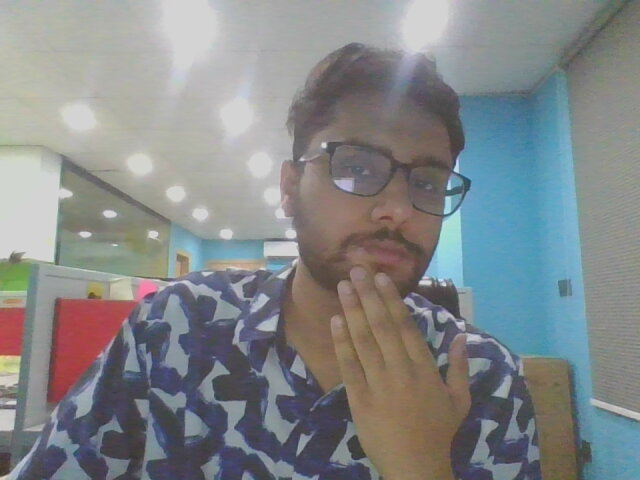thanks: (311, 255, 495, 480)
